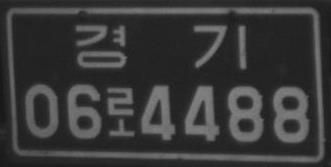0: (23, 82, 59, 139)
4: (183, 84, 220, 142), (140, 84, 177, 141)
6: (66, 82, 103, 141)
8: (271, 84, 311, 143), (227, 84, 264, 143)
경기_D: (74, 22, 248, 71)
로: (105, 85, 136, 138)
